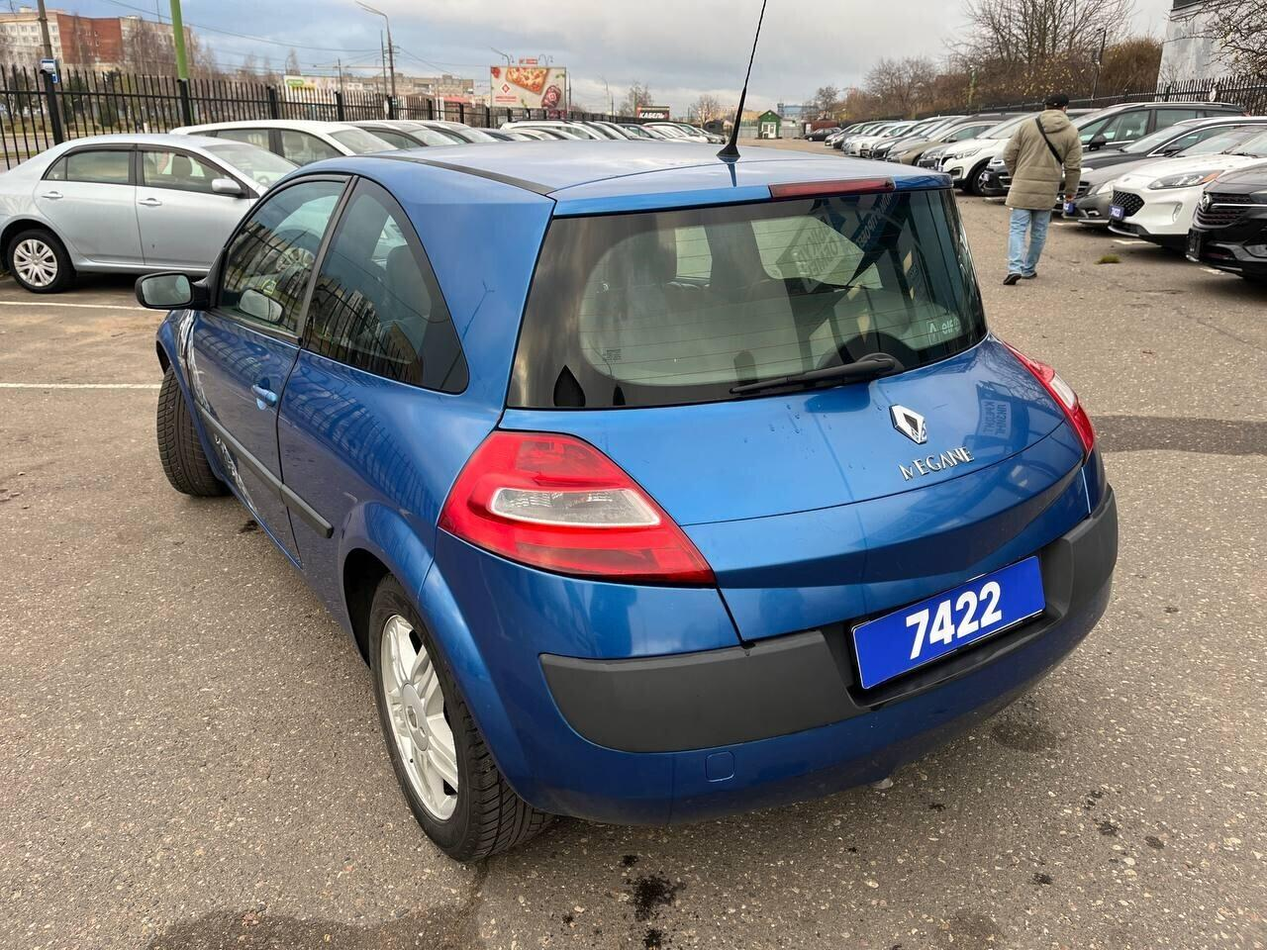Megane_2002-2006: (140, 153, 1119, 857)
